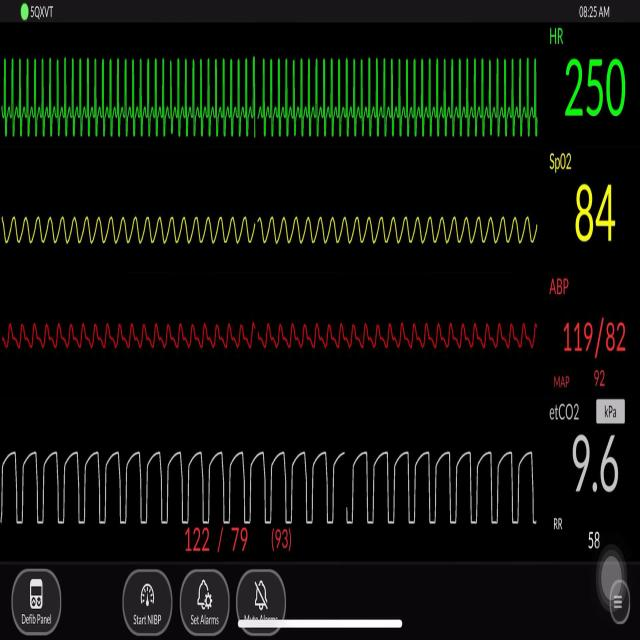danger: (263, 45, 539, 150), (5, 45, 255, 150)
